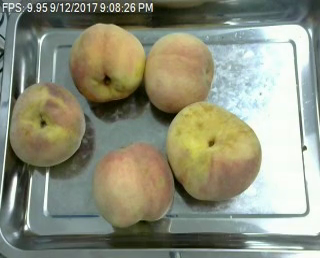Peach: (167, 100, 261, 201), (93, 141, 174, 228), (7, 81, 85, 167), (68, 23, 144, 102), (144, 31, 215, 112)
